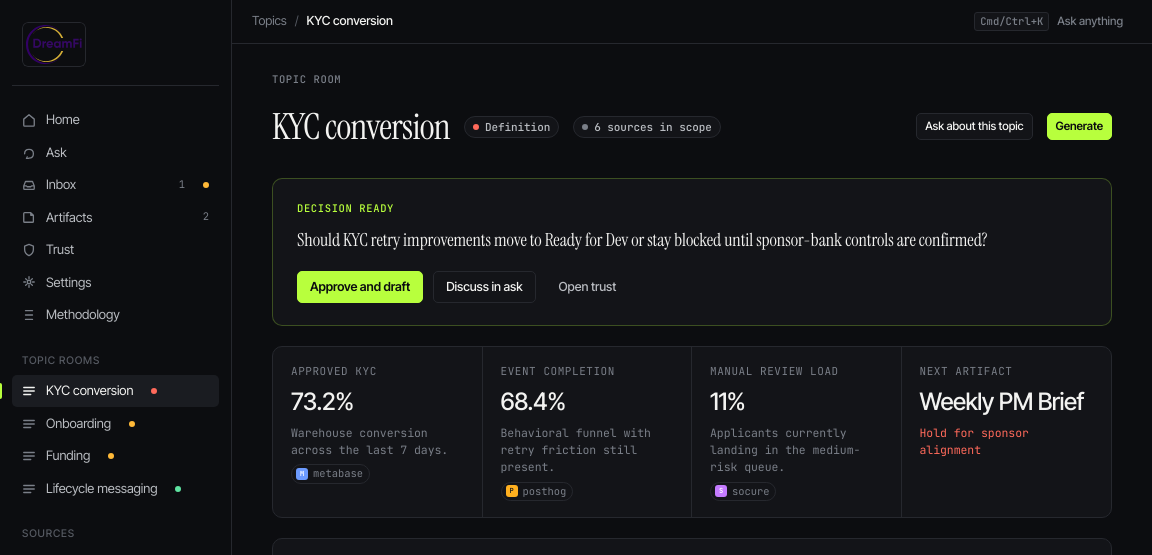
it: AskPalette › keeps the draft intact across reopen and remembers recent asks
The width and height of the screenshot is (1152, 555).
Expected: the heading "KYC conversion" is shown, [272,100,450,154]
Press k
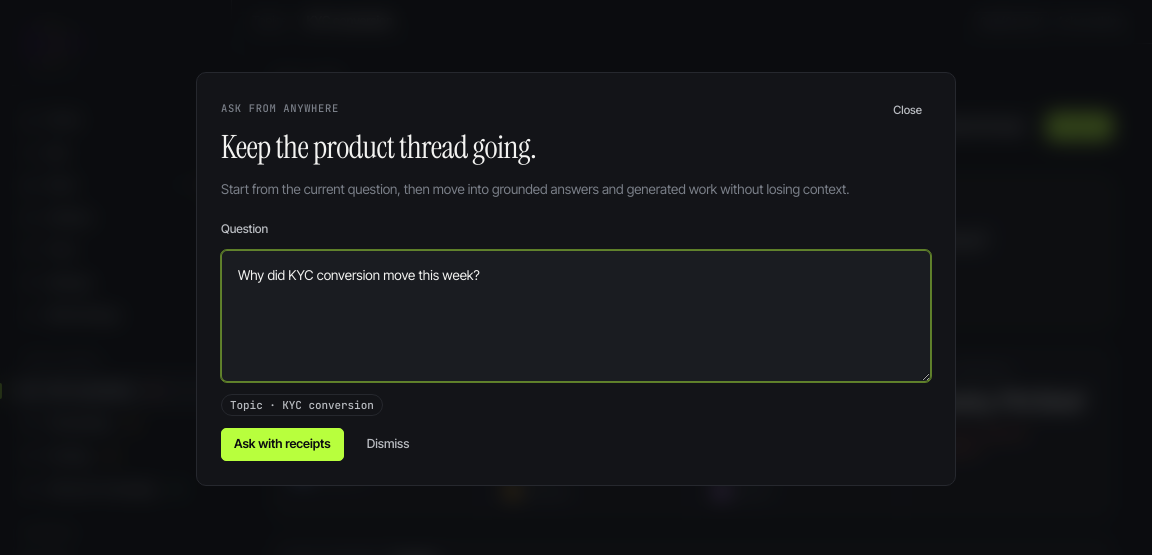
Result: the dialog named "Ask DreamFi" is shown at [196,72,956,486]
Result: the text box labelled "Question" holds "Why did KYC conversion move this week?"
Result: the text "Topic · KYC conversion" is shown at [221,394,383,416]
Replace the text in the text box labelled "Question" with "Should we change the manual review threshold?". click: (576, 316)
box: [221,250,931,382]
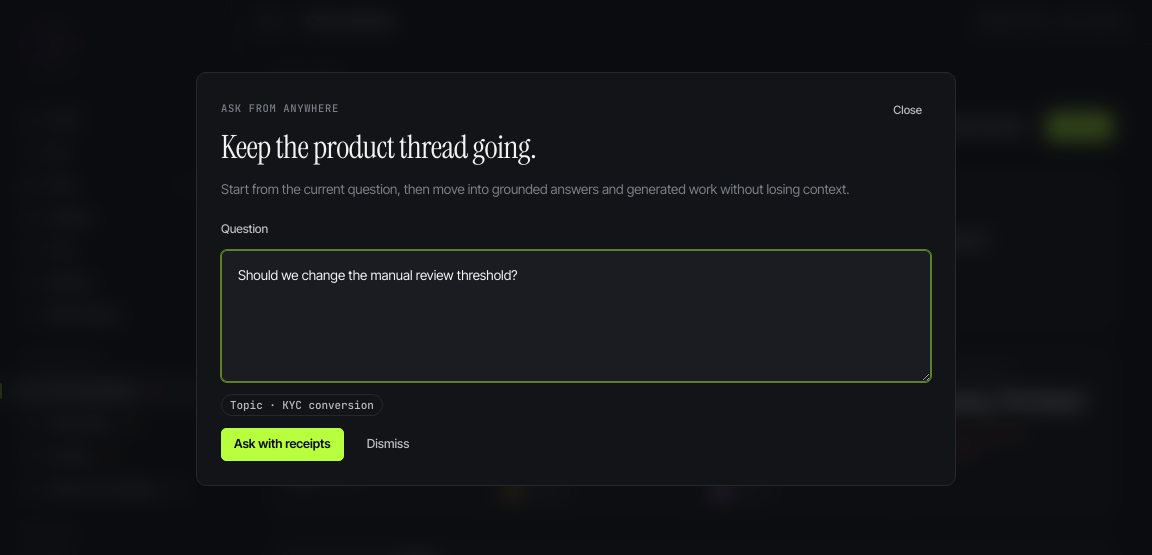
Click the button "Dismiss". click: click(388, 444)
box: [354,428,422,461]
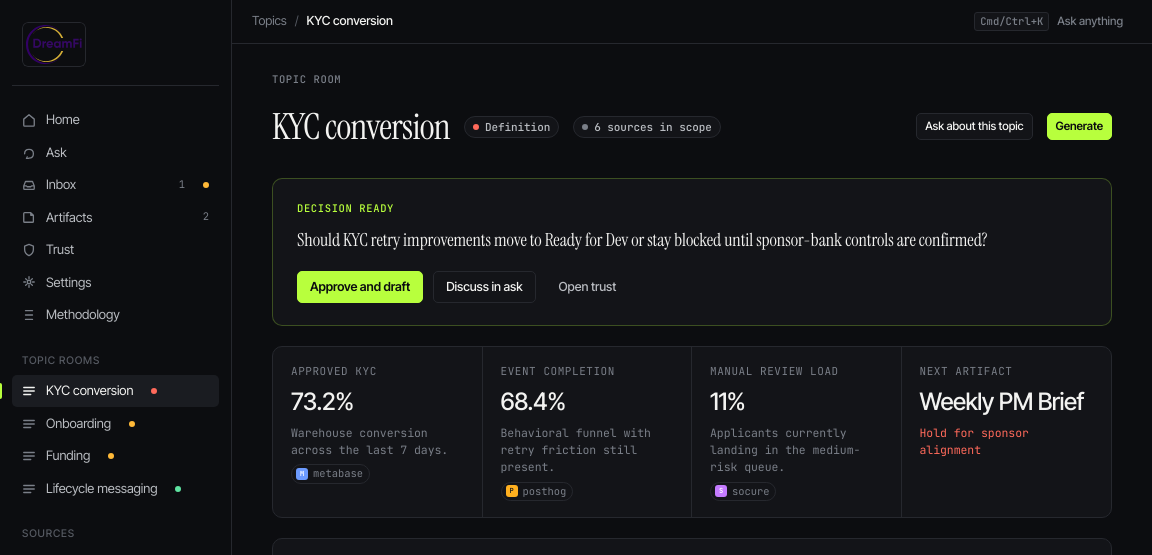
Press k
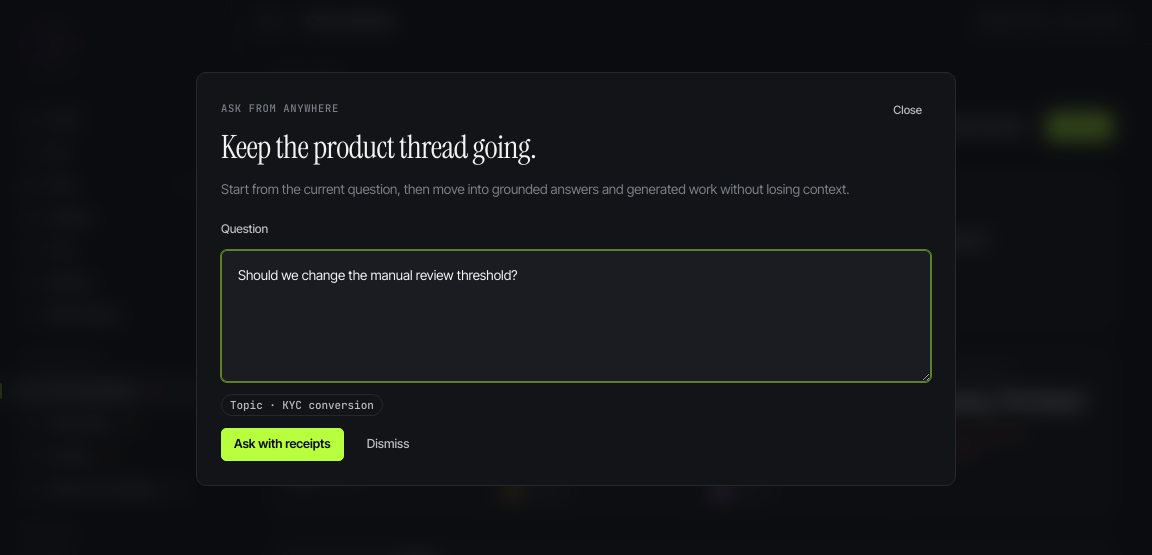
Result: the dialog named "Ask DreamFi" is shown at [196,72,956,486]
Result: the text box labelled "Question" holds "Should we change the manual review threshold?" at [221,250,931,382]
Submit the form "Question", box [221,220,931,461]
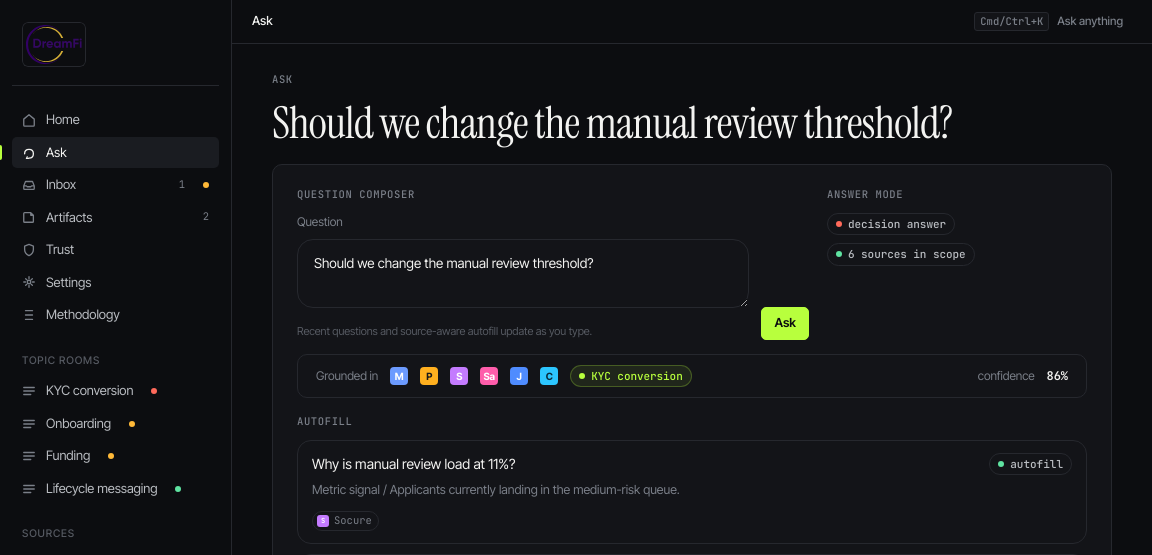
Result: the heading "Should we change the manual review threshold?" is shown at [272,94,952,152]
Press k
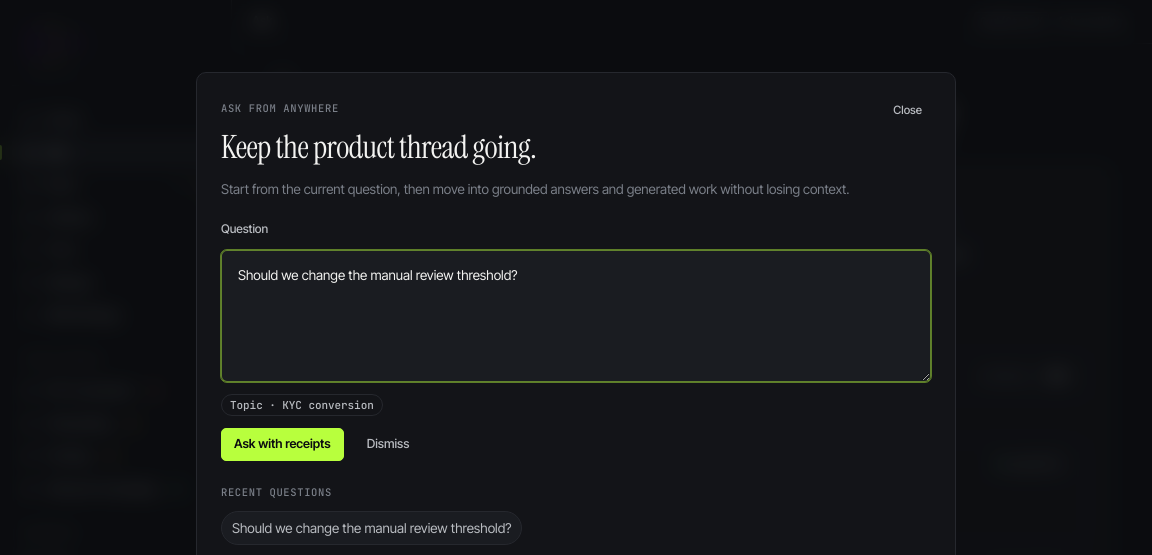
Result: the button "Should we change the manual review threshold?" is shown at [221,511,522,545]
